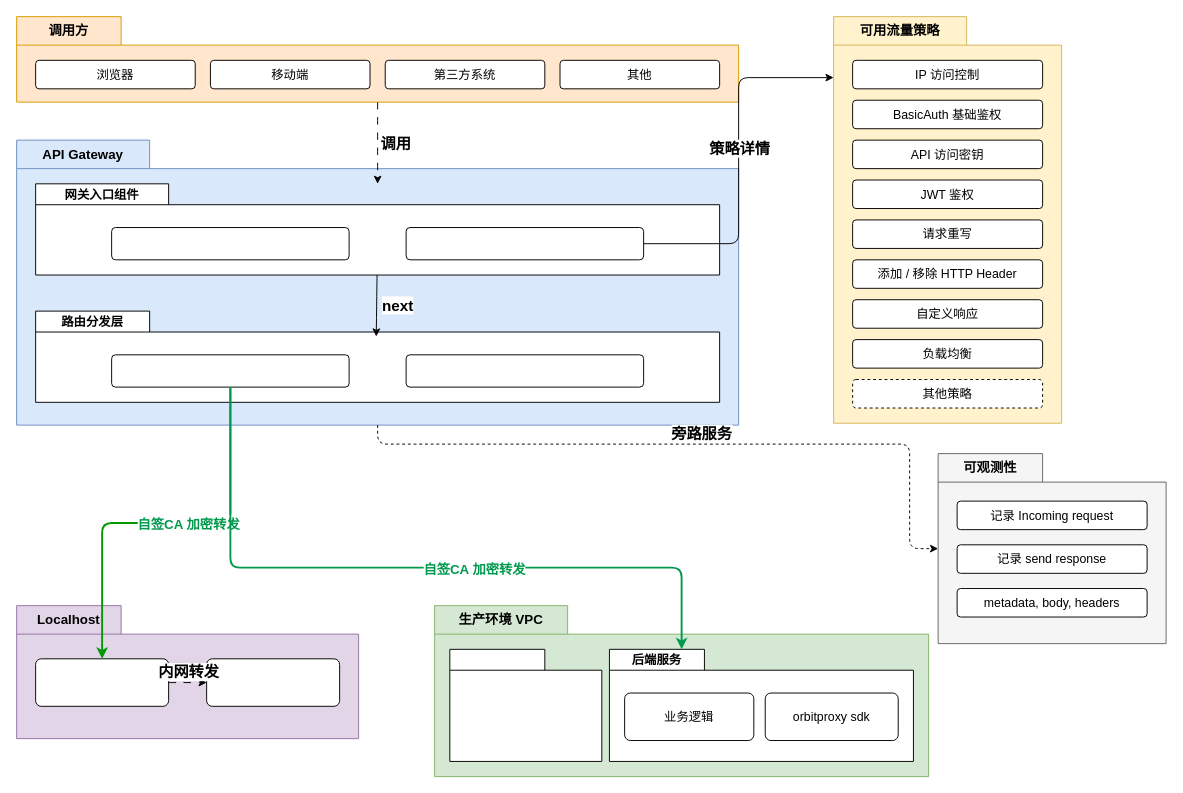
Image size: 1183x793. Some labels were removed from this diagram. The centre of each missing label's shape, as x and y in pixels:
"内网 127.0.0.1" goes at point 273,682.
"内网服务转发组件" goes at point 230,370.
"前端服务" goes at point 525,704.
"客户端 CLI" goes at point 102,682.
"提供公网可用域名" goes at point 230,243.
"流量策略过滤" goes at point 524,243.
"负载均衡 / 健康检查" goes at point 524,370.
